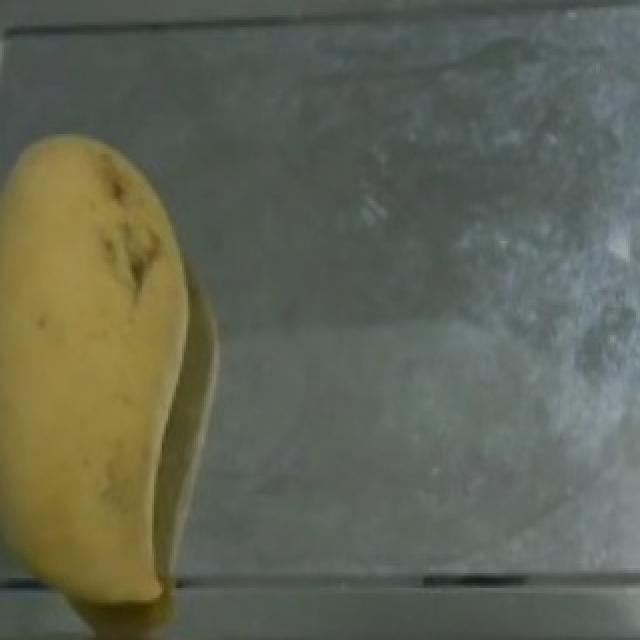fruit: (0, 111, 218, 478)
